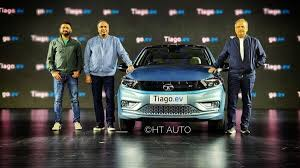Tiago: (117, 40, 229, 142)
